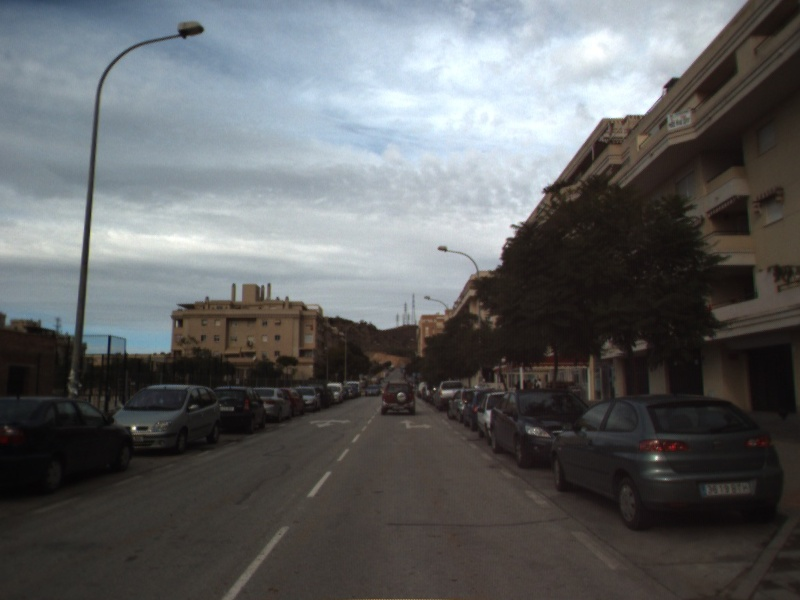STRAIGHT_RIGHT: (398, 418, 434, 431)
